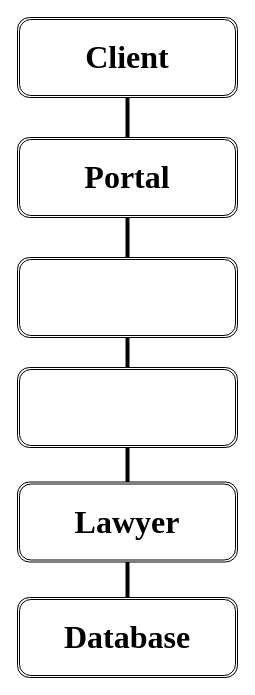
Image size: 255x695. Some labels were removed from this diagram. The centre of each missing label's shape, as x and y in pixels:
"AI Agent" belongs at [127,407].
"FastAPI" belongs at [127,297].
